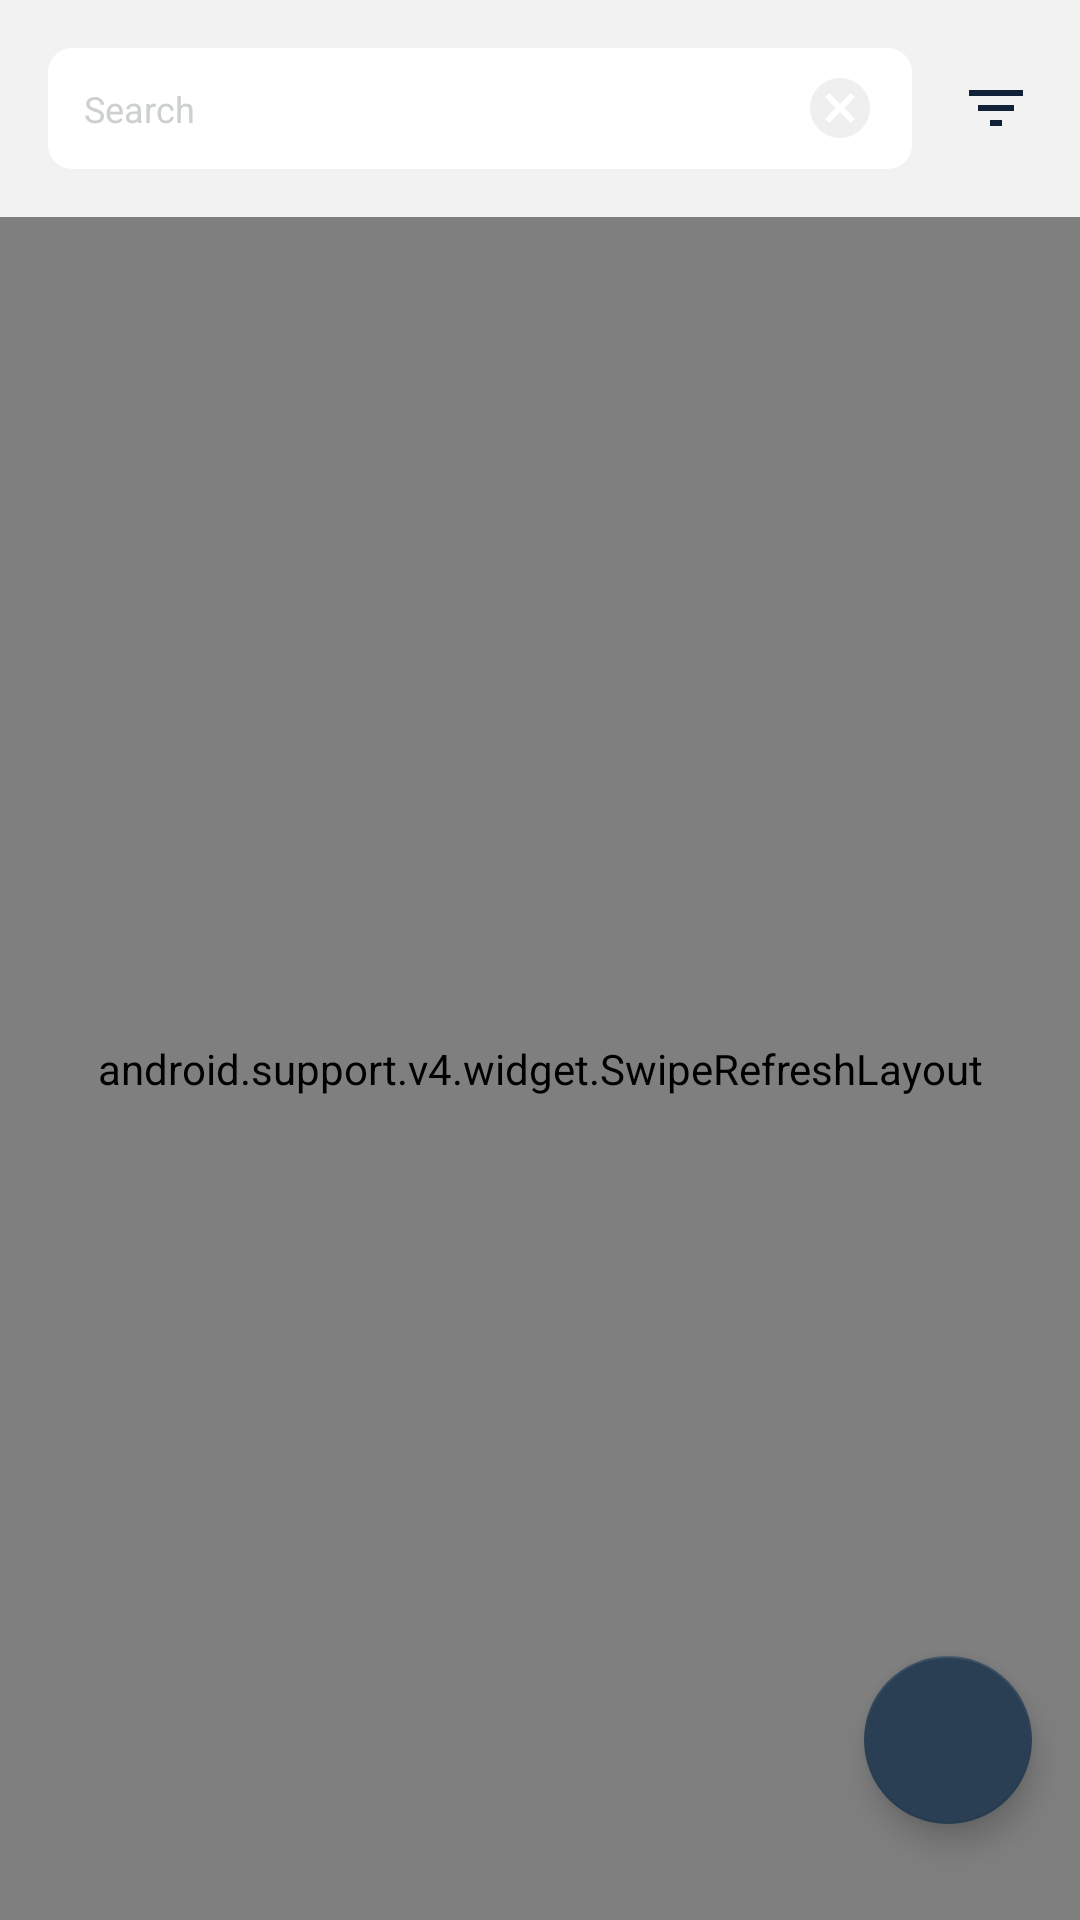

Screen size 1080w x 1920h. Icon name, then its box in pixels as (x1, y1, x2, y2):
filter list: (969, 90, 1023, 126)
